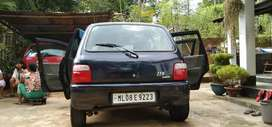ML08E9223: (112, 91, 155, 103)
